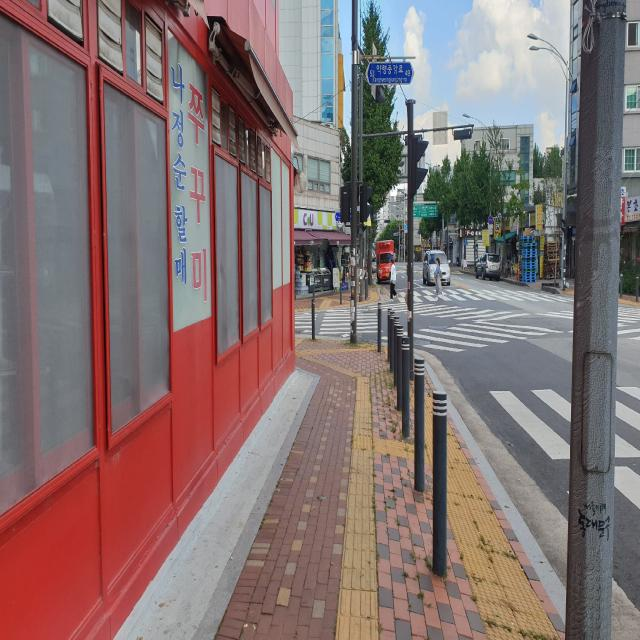횡단보도: (420, 298, 562, 340), (493, 392, 564, 458), (294, 307, 384, 339)
